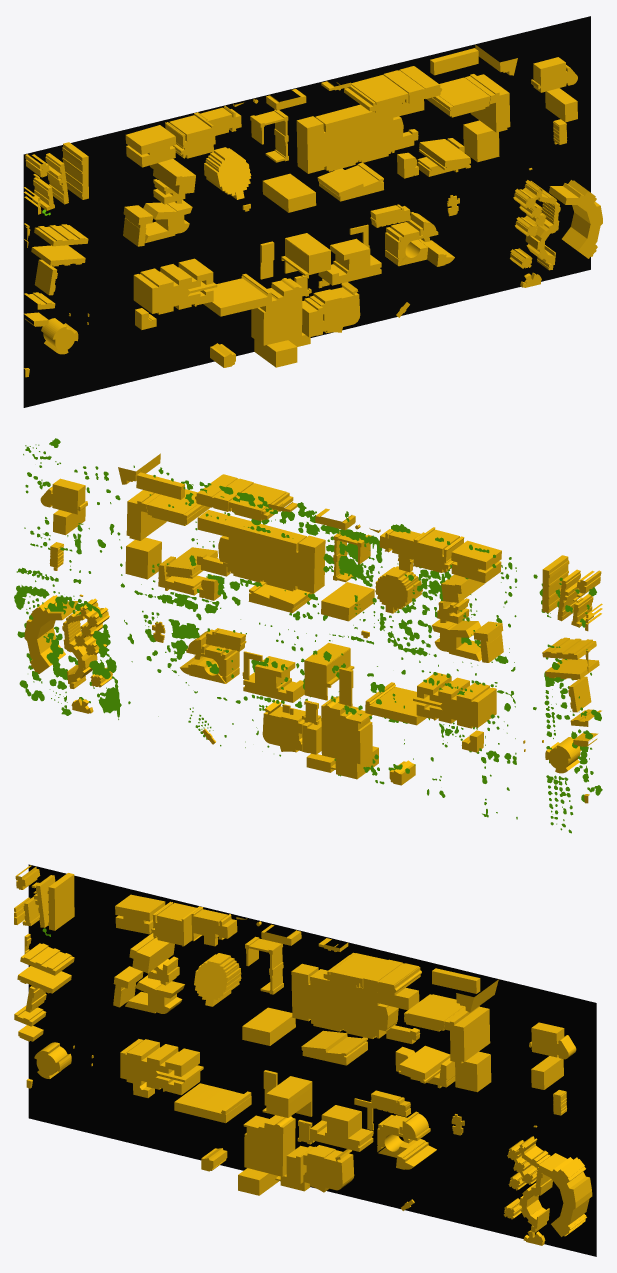
Rendered from existing_buildings_10.glb.
The picture shows the model from 3 angles, top to bottom: view 1: azimuth 30°, elevation 25°; view 2: azimuth 150°, elevation 25°; view 3: azimuth 330°, elevation 25°; orthographic projection.
Visible parts, largest first — view 1: Layer 04, existing_building; view 2: existing_building, treesurface; view 3: Layer 04, existing_building.
Boxes of the visible parts, x1,y1,x2,y2 form: Layer 04: [23, 16, 590, 407]; existing_building: [23, 44, 602, 377]; existing_building: [24, 453, 602, 803]; treesurface: [14, 438, 602, 833]; Layer 04: [28, 864, 596, 1256]; existing_building: [14, 865, 592, 1245].
Size of the model in its own units: 1027 by 458 by 78.
